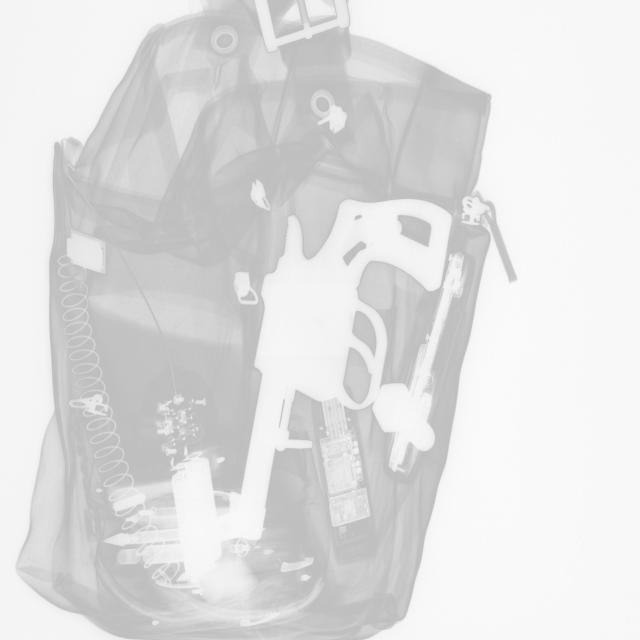pistol: (225, 196, 452, 543)
